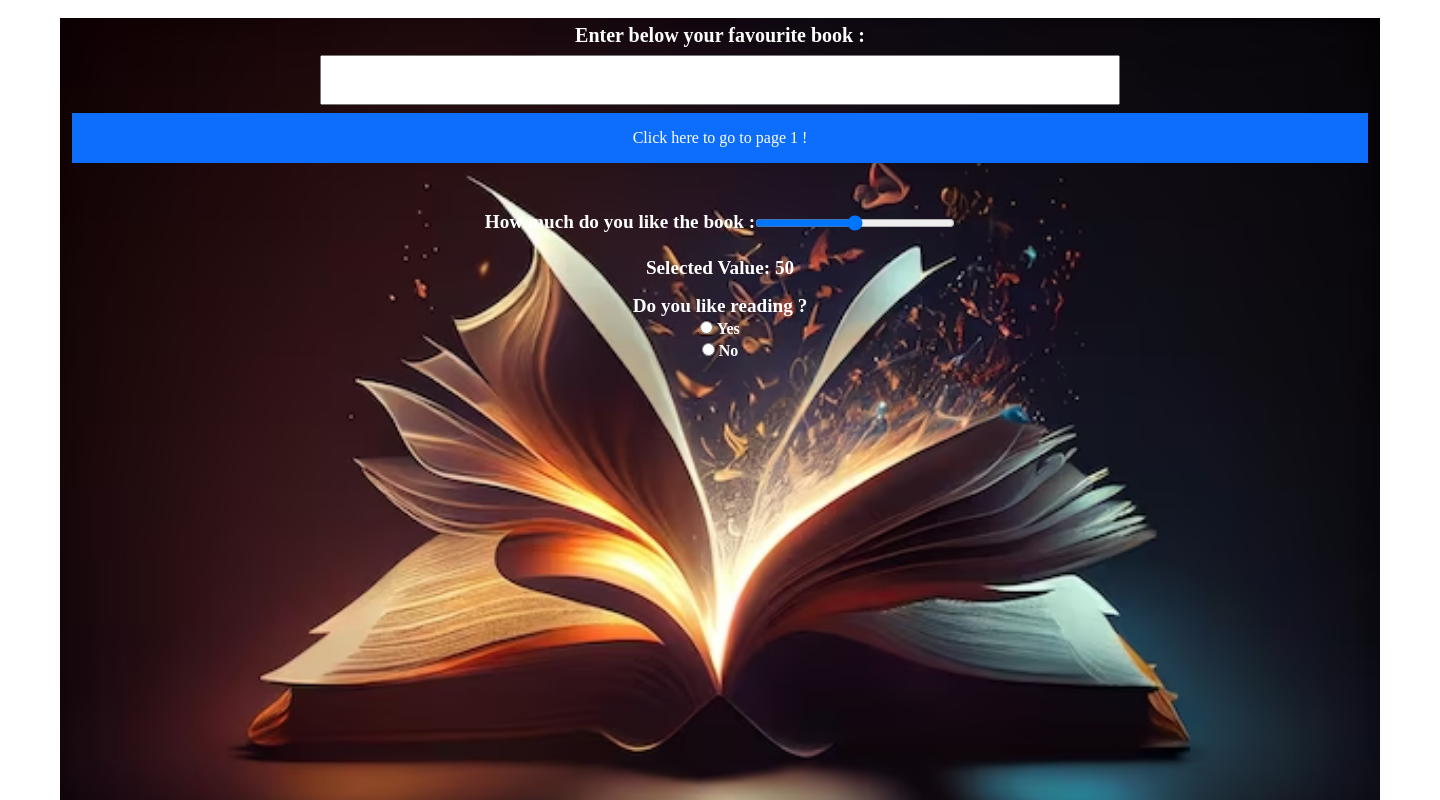
BookComponent › should update the slider value
Expected: the text "Selected Value: 50" is shown, [646,257,794,278]
Set the slider labelled "How much do you like the book :" to "75". click: (901, 223)
box: [755,218,955,228]
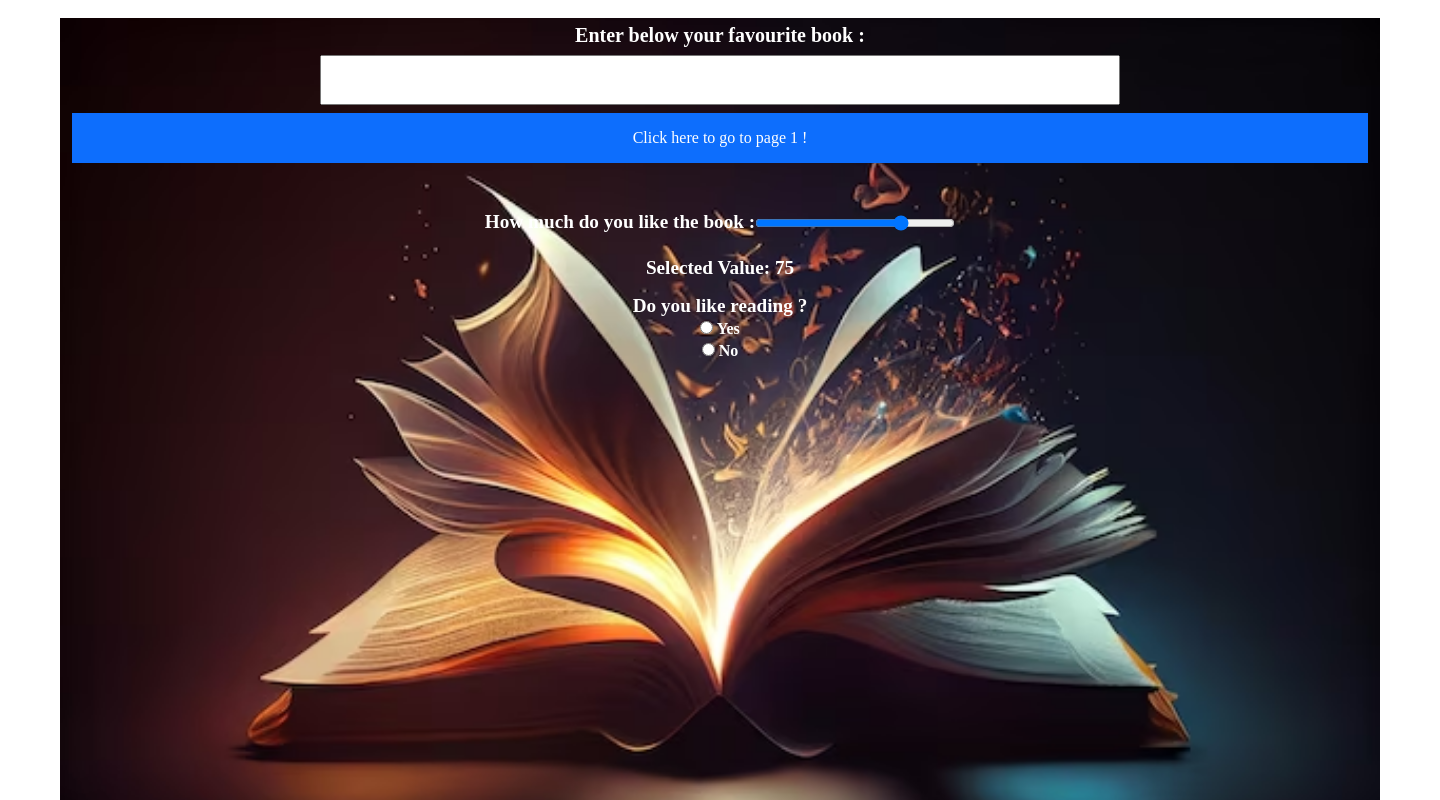
Result: the text "Selected Value: 75" is shown at [646,257,794,278]
